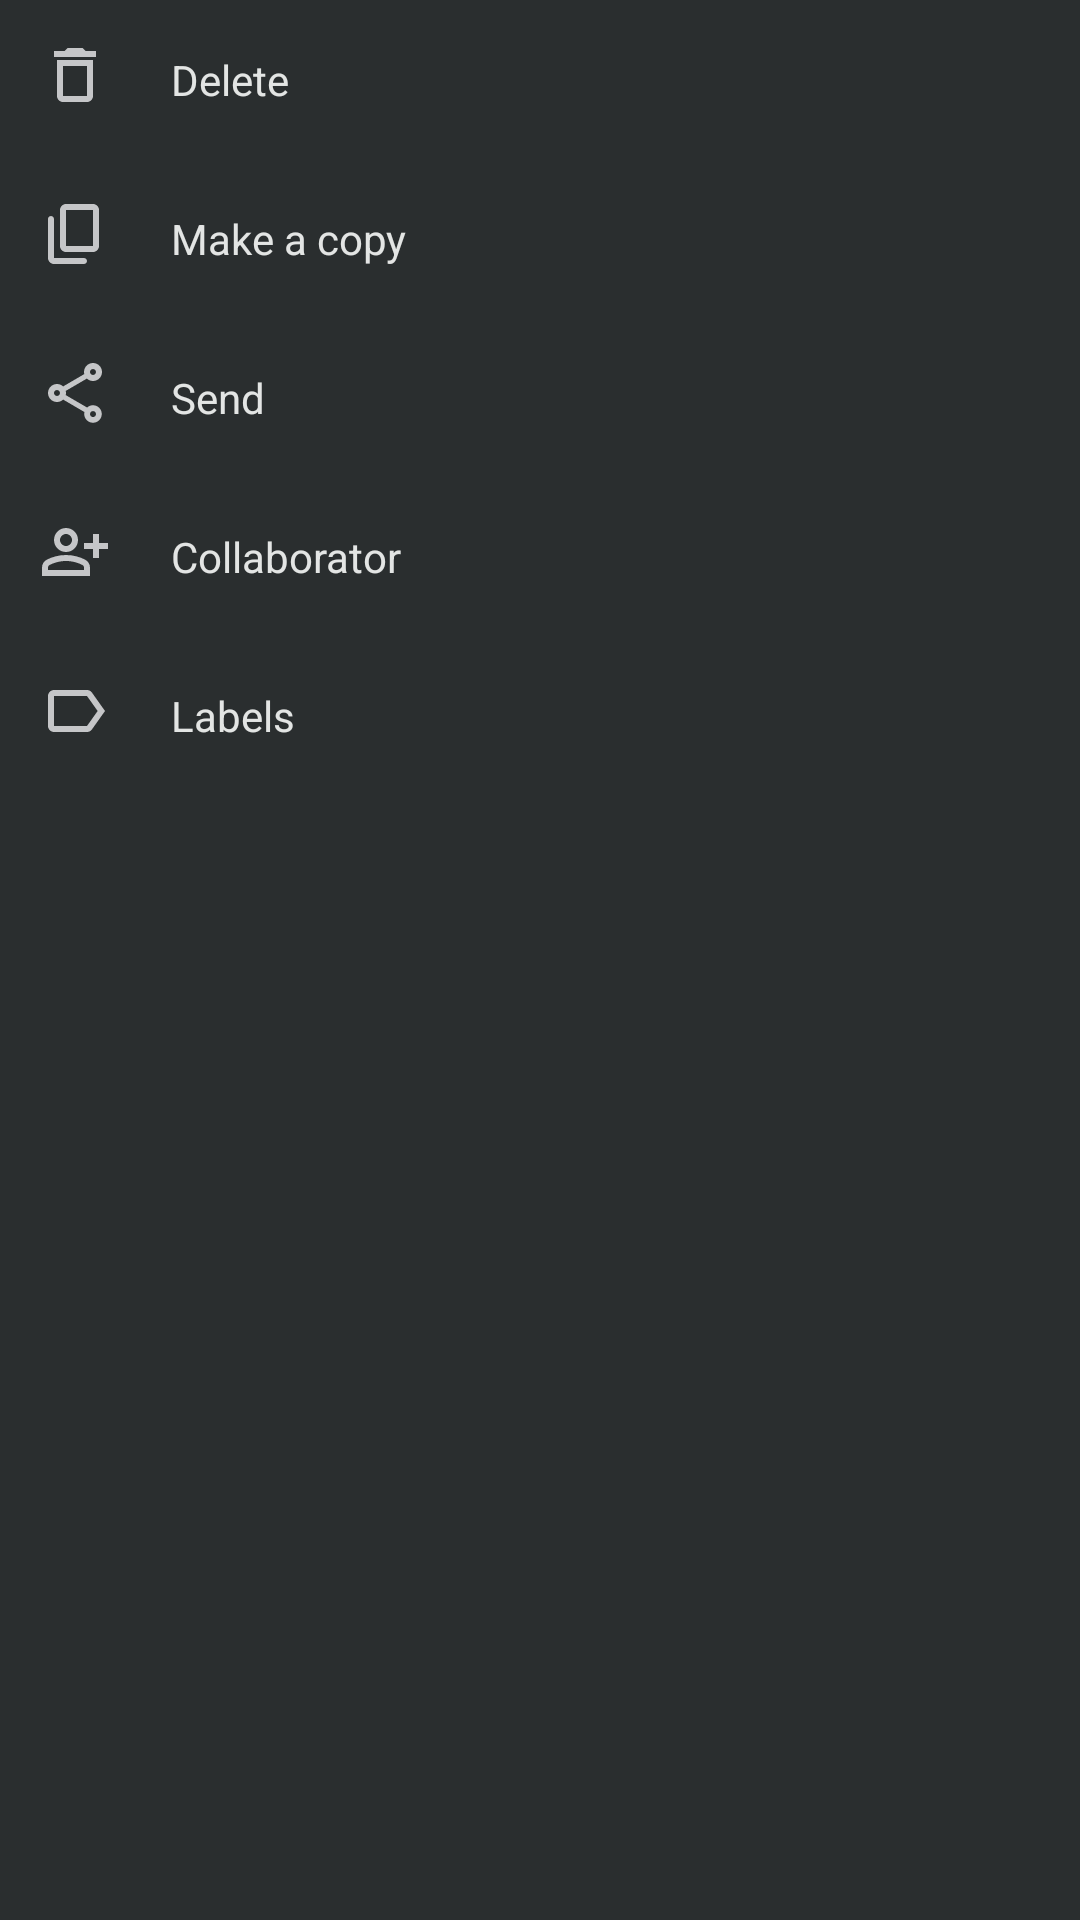

Named icons in this screenshot (1080w x 1920h) and their bounding boxes, bbox=(x1, y1, x2, y2):
person add: bbox=(42, 528, 108, 576)
share: bbox=(48, 363, 102, 423)
